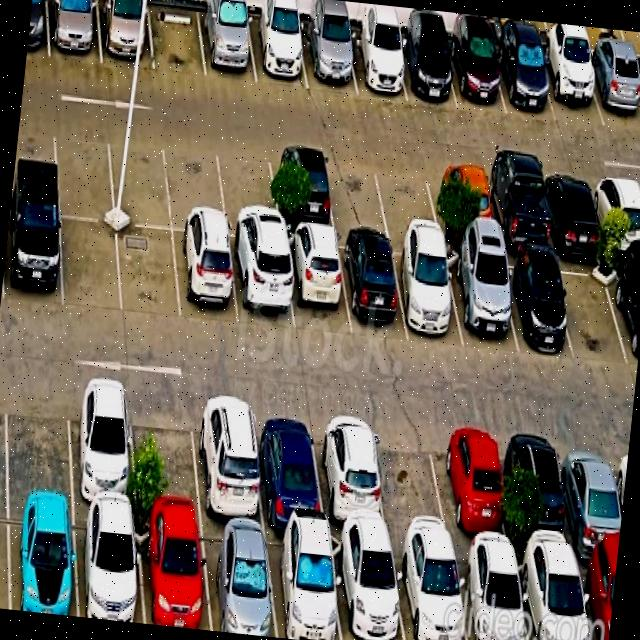empty: (370, 415, 452, 545), (129, 387, 201, 519), (5, 375, 72, 503), (554, 253, 630, 361), (107, 128, 171, 229), (216, 140, 280, 241), (117, 224, 180, 322), (53, 121, 114, 220), (165, 135, 226, 234), (61, 217, 121, 313), (374, 154, 440, 235), (324, 150, 389, 232), (148, 2, 206, 77)
occupied: (311, 410, 388, 539), (435, 420, 510, 552), (192, 394, 264, 526), (252, 401, 324, 530), (506, 425, 575, 556), (67, 379, 135, 511), (199, 522, 277, 637), (135, 515, 210, 630), (265, 529, 341, 640), (558, 431, 622, 559), (74, 507, 144, 623), (8, 502, 77, 616), (444, 248, 518, 353), (330, 535, 404, 640), (391, 240, 463, 347), (496, 252, 572, 353), (391, 544, 467, 640), (338, 234, 407, 338), (283, 230, 350, 335), (453, 547, 528, 640), (515, 552, 589, 640), (172, 231, 238, 325), (228, 239, 294, 331), (482, 165, 551, 251), (4, 206, 62, 308), (429, 160, 495, 243), (269, 146, 335, 229), (537, 47, 604, 126), (540, 169, 603, 250), (493, 39, 555, 120), (446, 35, 506, 113), (582, 51, 640, 130), (395, 34, 456, 107), (247, 14, 307, 88), (198, 8, 256, 83), (345, 29, 406, 100), (590, 173, 640, 253), (97, 0, 153, 69), (300, 24, 356, 92), (575, 556, 617, 640), (608, 257, 640, 367), (47, 0, 101, 63)
